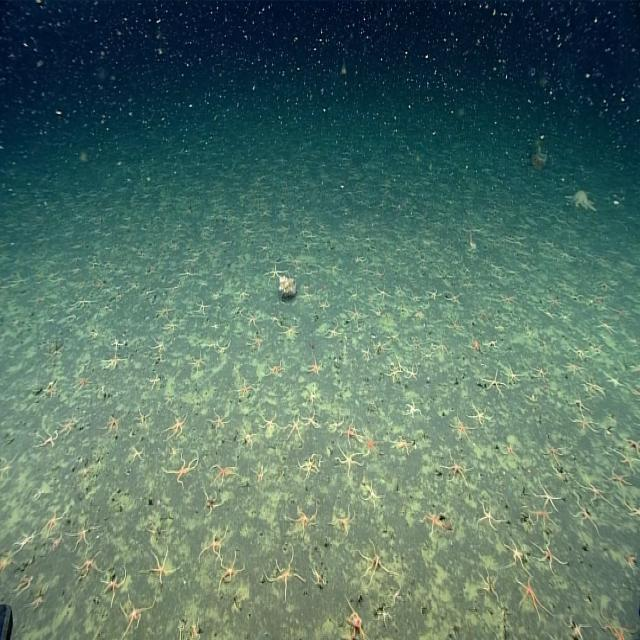brittle-stars: (263, 552, 305, 597), (116, 595, 154, 638), (588, 608, 636, 640), (514, 574, 548, 616), (576, 472, 613, 508), (164, 450, 197, 490), (571, 493, 600, 537), (358, 547, 392, 584), (198, 527, 228, 565), (288, 500, 319, 536), (144, 550, 177, 582), (532, 540, 564, 572), (102, 564, 125, 608), (219, 554, 246, 591), (345, 600, 367, 639), (478, 498, 504, 531), (503, 538, 529, 571), (334, 448, 364, 476), (441, 453, 471, 481), (534, 480, 561, 511), (72, 520, 100, 548), (159, 414, 188, 440), (450, 413, 473, 445), (72, 552, 100, 578), (11, 529, 36, 558), (208, 464, 239, 485), (612, 448, 640, 471), (476, 570, 499, 598), (360, 483, 382, 511), (296, 458, 321, 482), (26, 586, 48, 613), (329, 509, 356, 531), (283, 415, 303, 444), (100, 413, 124, 437), (58, 411, 82, 435), (467, 404, 492, 426), (563, 619, 589, 640), (205, 411, 230, 432), (530, 508, 556, 528), (12, 573, 34, 596), (41, 514, 66, 534), (420, 512, 445, 532), (203, 490, 222, 516), (363, 431, 382, 457), (483, 371, 505, 393), (0, 453, 17, 481), (340, 422, 359, 447), (543, 443, 564, 465), (605, 470, 628, 490), (146, 524, 167, 545), (571, 412, 594, 430), (34, 432, 59, 448), (73, 372, 93, 392), (45, 342, 64, 363), (134, 408, 153, 428), (619, 434, 640, 452), (102, 354, 125, 370), (263, 266, 286, 282), (310, 565, 326, 588), (237, 379, 254, 400), (344, 305, 360, 327), (568, 398, 590, 414), (302, 411, 320, 430), (280, 324, 300, 341), (392, 437, 412, 454), (404, 399, 422, 417), (189, 354, 208, 371), (265, 363, 284, 380), (623, 498, 640, 517), (377, 606, 393, 626), (584, 381, 604, 397), (260, 415, 281, 430), (327, 416, 344, 434), (383, 364, 400, 382), (239, 429, 256, 447), (371, 340, 391, 355), (434, 337, 448, 358), (157, 306, 175, 322), (0, 550, 13, 572), (240, 314, 262, 327), (72, 300, 93, 313), (569, 344, 585, 361), (597, 319, 615, 334), (605, 375, 624, 389), (131, 446, 145, 464), (374, 285, 390, 300), (150, 339, 166, 354), (505, 369, 522, 383), (255, 465, 268, 483), (50, 534, 63, 552), (405, 365, 418, 383), (325, 324, 341, 338), (562, 363, 584, 373), (44, 380, 56, 398), (532, 366, 547, 380), (407, 340, 428, 350), (465, 338, 480, 352), (306, 360, 322, 373), (29, 296, 45, 309), (12, 274, 28, 287), (299, 290, 316, 302), (47, 276, 65, 287), (395, 355, 406, 373), (32, 487, 46, 501), (249, 335, 262, 350), (112, 338, 124, 354), (448, 317, 461, 331), (385, 330, 401, 341), (148, 374, 160, 388), (217, 341, 231, 353), (426, 289, 441, 300), (191, 620, 199, 640), (364, 343, 372, 363), (501, 295, 517, 305), (90, 330, 103, 342), (195, 303, 209, 314), (236, 288, 250, 299), (626, 385, 640, 396), (180, 270, 195, 280), (504, 446, 516, 458), (628, 556, 636, 574), (483, 340, 499, 349), (205, 342, 219, 352), (347, 286, 357, 300), (328, 264, 342, 274), (163, 324, 177, 334), (444, 295, 459, 304), (150, 355, 165, 364), (305, 390, 317, 401), (318, 302, 331, 312), (371, 270, 385, 279), (392, 590, 402, 602), (356, 252, 366, 264), (559, 313, 571, 323), (369, 307, 382, 316), (407, 295, 423, 302), (66, 314, 76, 324), (165, 395, 174, 406), (143, 269, 159, 275), (422, 352, 434, 359), (294, 263, 303, 272), (71, 256, 80, 264)
